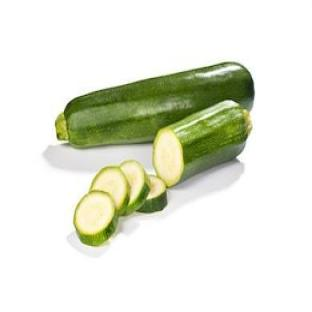Zucchini: (56, 63, 254, 147), (153, 101, 251, 187), (74, 191, 118, 245), (90, 166, 130, 214), (120, 160, 150, 214), (138, 176, 167, 212)
